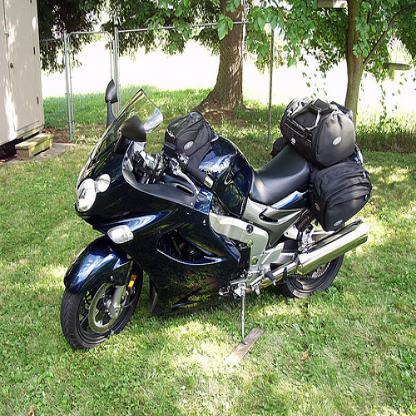motorbike: (59, 78, 373, 352)
